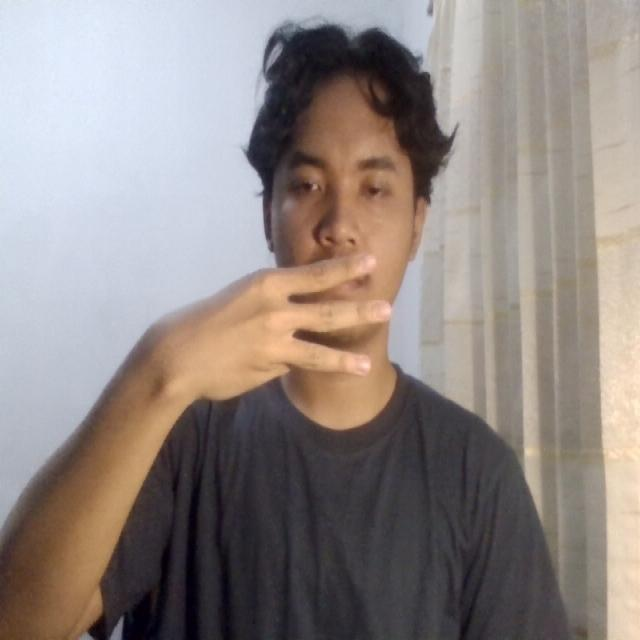E: (185, 235, 402, 420)
